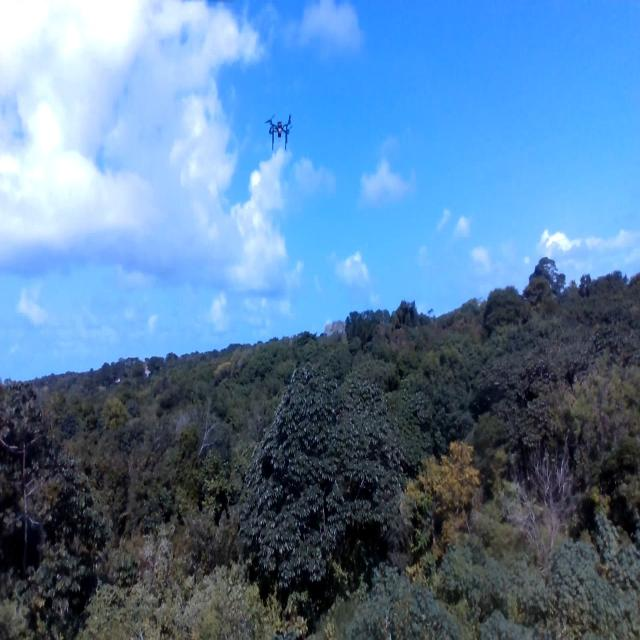-uav-: (262, 107, 302, 176)
